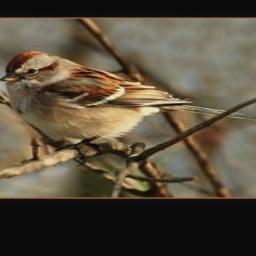Sparrow: (1, 50, 256, 168)
